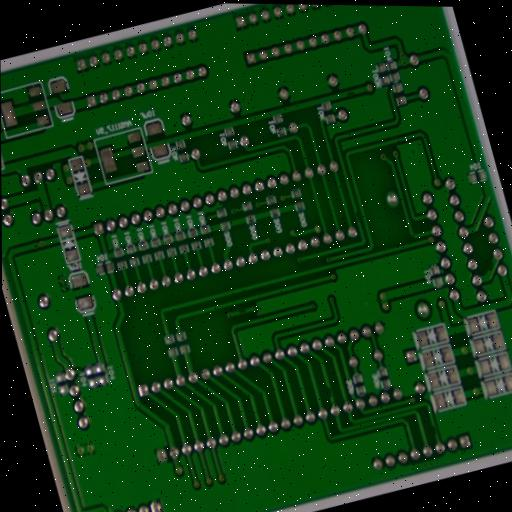mouse_bite: (321, 381, 337, 402), (350, 208, 363, 226), (427, 421, 440, 439), (234, 305, 249, 319), (343, 88, 358, 100)
